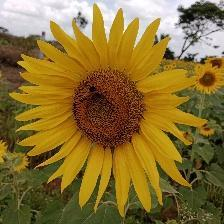sunflower: (9, 5, 209, 219)
